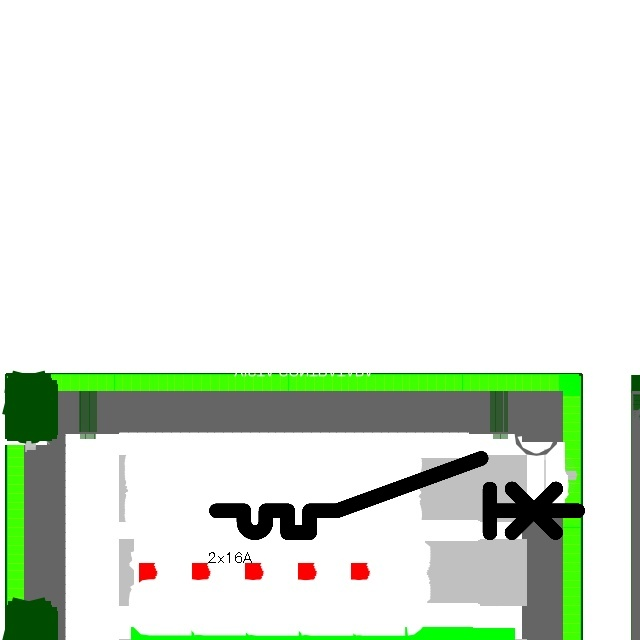interruptor_termomagnetico: (207, 449, 587, 542)
